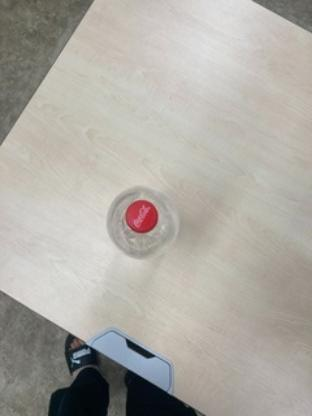Plastic Bottle: (103, 180, 181, 266)
